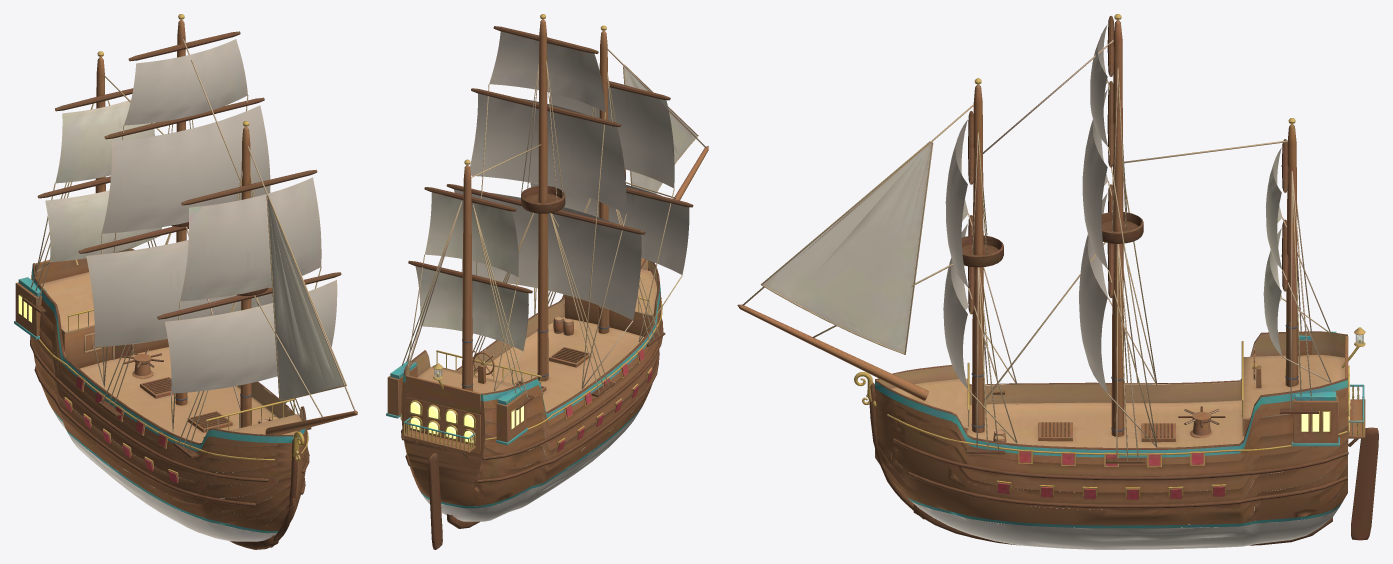
Rendered from nau-source.glb.
3 renders of one model, left to right at view 1: azimuth 30°, elevation 25°; view 2: azimuth 150°, elevation 25°; view 3: azimuth 270°, elevation 25°, orthographic. The views are drawn at different scales.
Parts seen in each view (by area): view 1: galleon_body; view 2: galleon_body, galleon_window_glow; view 3: galleon_body.
Part boxes in pixels (box(x1,y1,x2,y2)): galleon_body: box(14, 14, 357, 549); galleon_body: box(386, 14, 708, 549); galleon_window_glow: box(410, 402, 523, 442); galleon_body: box(737, 14, 1378, 549).
Size of the model in its own units: 12.2 by 27.36 by 29.85.
Materials: 5 (1 with a texture image).
